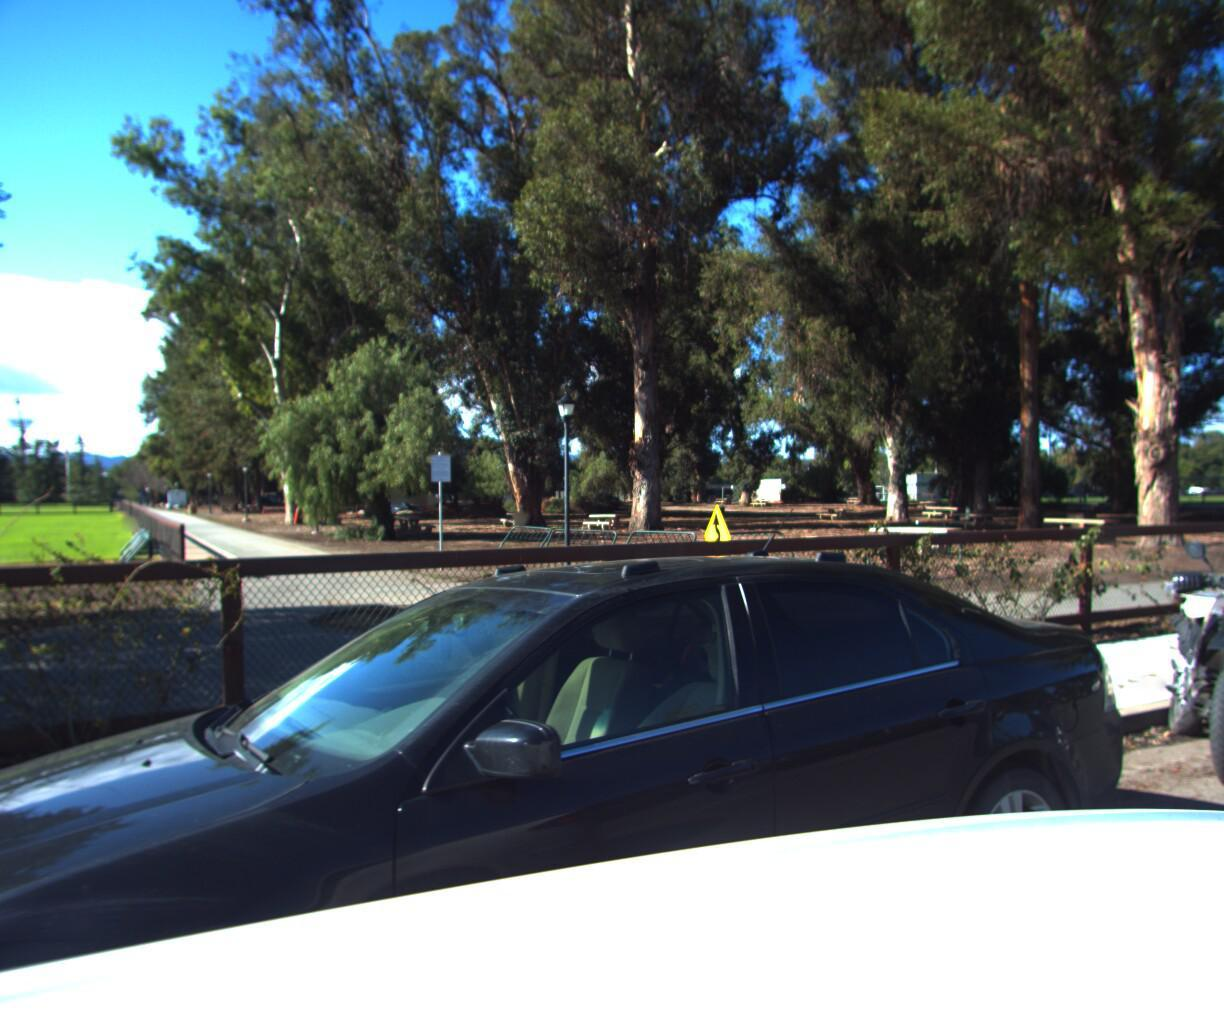car: (0, 526, 1216, 1024)
motorcycle: (1156, 514, 1224, 837)
